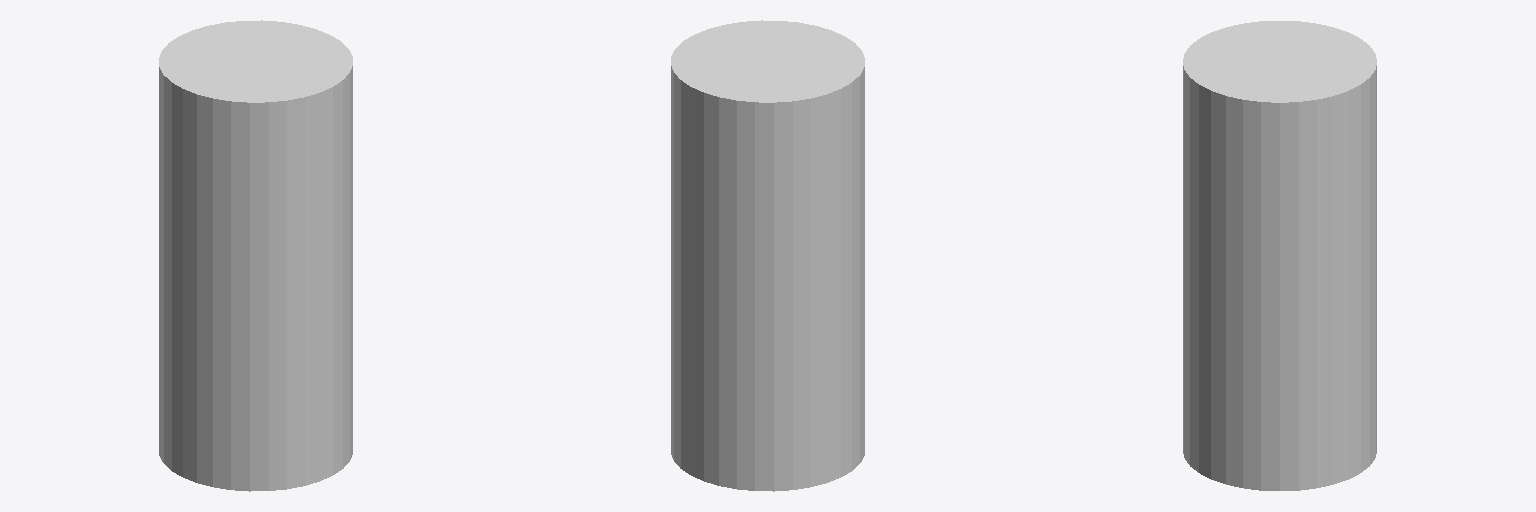
The robot description file, URDF, robot "cylinder":
<?xml version="1.0" ?>
<robot name="cylinder">
  <link name="cylinder_base_link">
    <dynamics damping="1.0" />
    <contact>
      <restitution value="0.05"/>
      <lateral_friction value="0.3"/>
      <rolling_friction value="0.01"/>
      <contact_cfm value="0.0"/>
      <contact_erp value="1.0"/>
    </contact>
    <inertial>
      <mass value="0.150"/>
      <inertia ixx="0.073958" ixy="0.0" ixz="0.0" iyy="0.073958" iyz="0.0" izz="0.00125"/>
      <origin rpy="0 0 0" xyz="0 0 0"/>
    </inertial>
    <visual>
      <geometry>
        <cylinder length="0.22" radius="0.05"/>
      </geometry>
      <origin rpy="0 0 0" xyz="0 0 0"/>
       <material name="pink">
        <color rgba="0.9 0.9 0.9 0.8"/>
      </material>
    </visual>
    <collision>
      <origin rpy="0 0 0" xyz="0 0 0"/>
      <geometry>
        <cylinder length="0.22" radius="0.05"/>
      </geometry>
    </collision>
  </link>
</robot>

--- Facts derived from the render (not from the file) ---
3 views of the same robot in one strip: view 1: azimuth 30°, elevation 25°; view 2: azimuth 150°, elevation 25°; view 3: azimuth 270°, elevation 25° (orthographic).
Robot: cylinder — 1 links, 0 joints (none); root link cylinder_base_link; default pose: all joints at 0.
Links seen in each view (by area): view 1: cylinder_base_link; view 2: cylinder_base_link; view 3: cylinder_base_link.
Link boxes in pixels (bbox=[...]): cylinder_base_link: bbox=[159, 20, 352, 491]; cylinder_base_link: bbox=[671, 20, 864, 491]; cylinder_base_link: bbox=[1183, 21, 1376, 490].
Size in the robot's own frame: 0.1 by 0.1 by 0.22 metres.
Geometry: primitives only (box / cylinder / sphere), no mesh files.